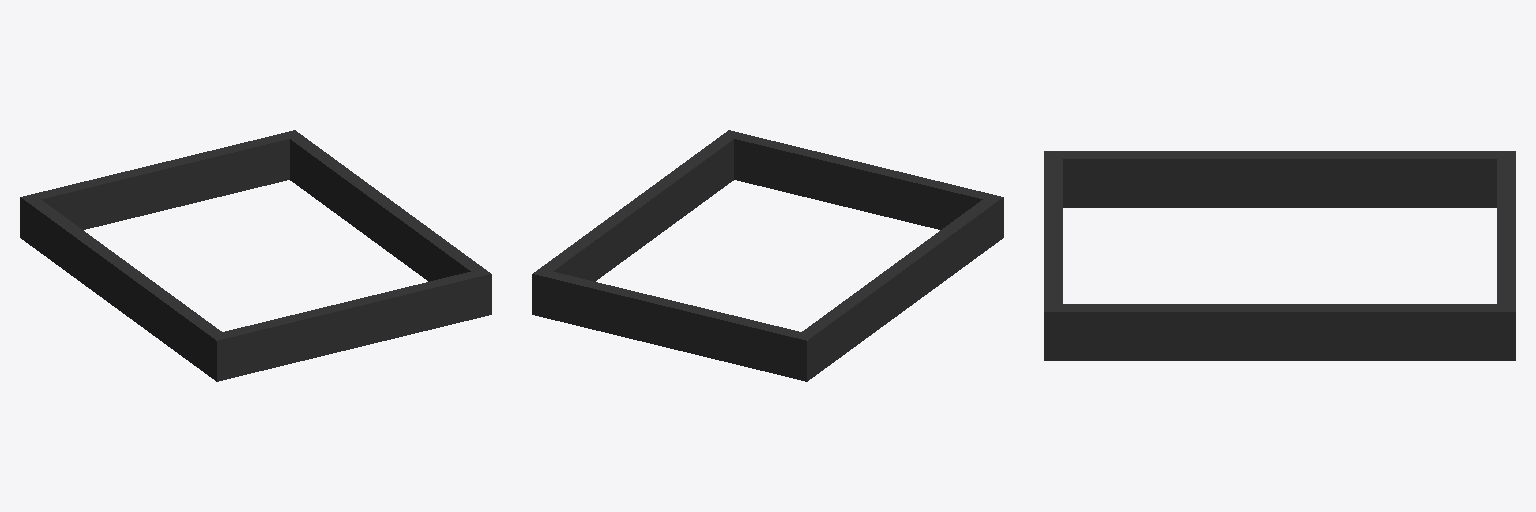
The robot description file, URDF, robot "sandbox":
<?xml version=".0"?>
<robot name="sandbox">
  <link name="base_link">
    <visual>
      <material name="darkgrey">
        <color rgba="0.25 0.25 0.25 1"/>
      </material>
      <origin rpy="0 0 0" xyz="0 0.25 0.03"/>
      <geometry>
        <box size="0.38 0.02 0.06" />
      </geometry>
    </visual>
    <visual>
      <material name="darkgrey">
        <color rgba="0.25 0.25 0.25 1"/>
      </material>
      <origin rpy="0 0 0" xyz="0 -0.25 0.03"/>
      <geometry>
        <box size="0.38 0.02 0.06" />
      </geometry>
    </visual>
    <visual>
      <material name="darkgrey">
        <color rgba="0.25 0.25 0.25 1"/>
      </material>
      <origin rpy="0 0 0" xyz="0.20 0 0.03"/>
      <geometry>
        <box size="0.02 0.52 0.06" />
      </geometry>
    </visual>
    <visual>
      <material name="darkgrey">
        <color rgba="0.25 0.25 0.25 1"/>
      </material>
      <origin rpy="0 0 0" xyz="-0.20 0 0.03"/>
      <geometry>
        <box size="0.02 0.52 0.06" />
      </geometry>
    </visual>

    <collision>
      <origin rpy="0 0 0" xyz="0 0.25 0.03"/>
      <geometry>
        <box size="0.38 0.02 0.06" />
      </geometry>
    </collision>
    <collision>
      <origin rpy="0 0 0" xyz="0 -0.25 0.03"/>
      <geometry>
        <box size="0.38 0.02 0.06" />
      </geometry>
    </collision>
    <collision>
      <origin rpy="0 0 0" xyz="0.20 0 0.03"/>
      <geometry>
        <box size="0.02 0.52 0.06" />
      </geometry>
    </collision>
    <collision>
      <origin rpy="0 0 0" xyz="-0.20 0 0.03"/>
      <geometry>
        <box size="0.02 0.52 0.06" />
      </geometry>
    </collision>
  </link>

</robot>

--- What the picture shows (computed from the rendered views, not written in the file) ---
The picture shows the robot from 3 angles, left to right: view 1: azimuth 30°, elevation 25°; view 2: azimuth 150°, elevation 25°; view 3: azimuth 270°, elevation 25°; orthographic projection.
Robot: sandbox — 1 links, 0 joints (none); root link base_link; default pose: all joints at 0.
Visible links, largest first — view 1: base_link; view 2: base_link; view 3: base_link.
Link boxes in pixels (bbox=[...]): base_link: bbox=[20, 130, 491, 381]; base_link: bbox=[532, 130, 1003, 381]; base_link: bbox=[1044, 151, 1515, 360].
Size in the robot's own frame: 0.42 by 0.52 by 0.06 metres.
Geometry: primitives only (box / cylinder / sphere), no mesh files.